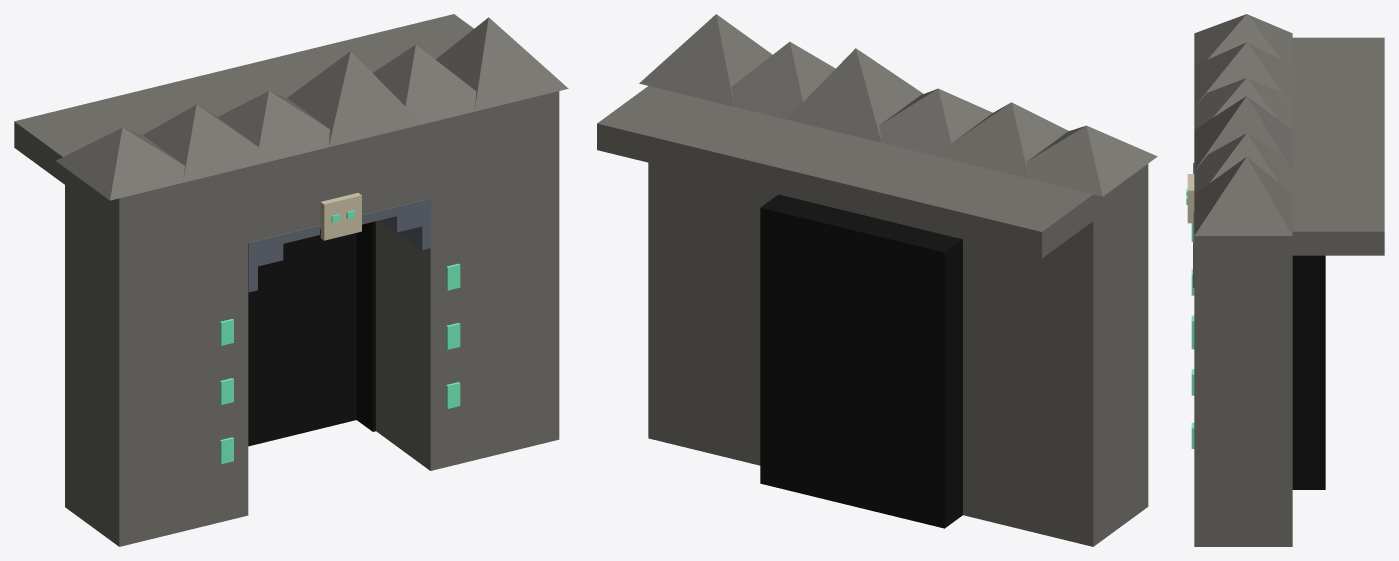
The model's file is cave_tunnel.glb.
The picture shows the model from 3 angles, left to right: view 1: azimuth 30°, elevation 25°; view 2: azimuth 150°, elevation 25°; view 3: azimuth 270°, elevation 25°; orthographic projection. The views are drawn at different scales.
Parts seen in each view (by area): view 1: cave_tunnel; view 2: cave_tunnel; view 3: cave_tunnel.
Boxes of the visible parts, x1,y1,x2,y2 form: cave_tunnel: (14, 14, 568, 546); cave_tunnel: (597, 14, 1157, 546); cave_tunnel: (1186, 14, 1384, 546).
Bounding box in the file's own units: 7.3 × 6.25 × 3.02.
Materials: 1 (1 with a texture image).
